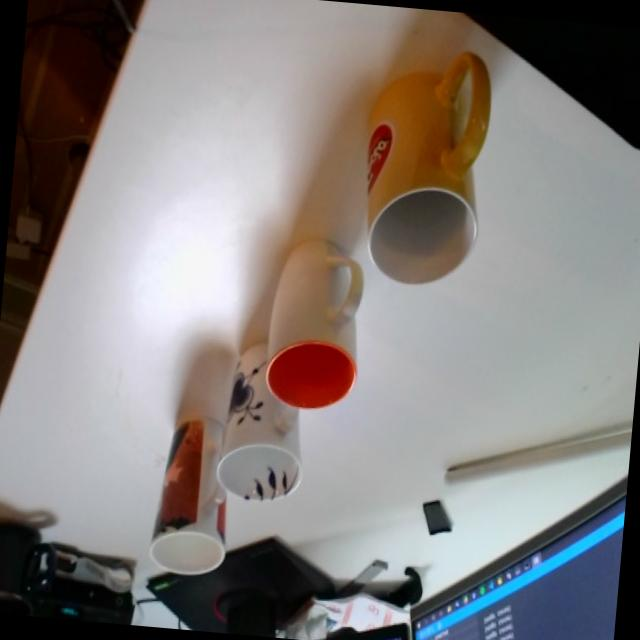Cup: (0, 518, 59, 617)
Halloween cup: (145, 421, 237, 578)
Hand painted cup: (214, 336, 314, 506)
White Cup: (256, 235, 366, 412)
cup: (352, 39, 498, 291)
